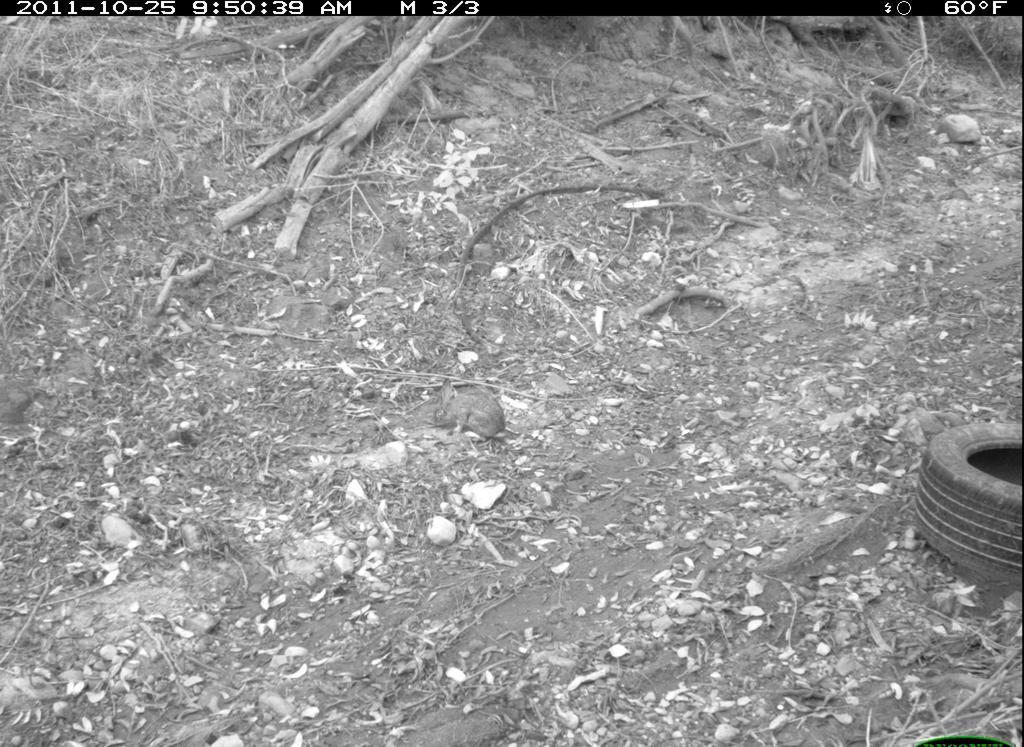rabbit: (427, 372, 513, 445)
